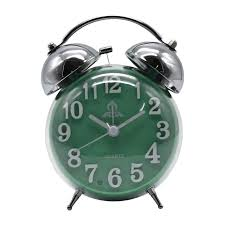alarm_clock: (40, 12, 182, 207)
